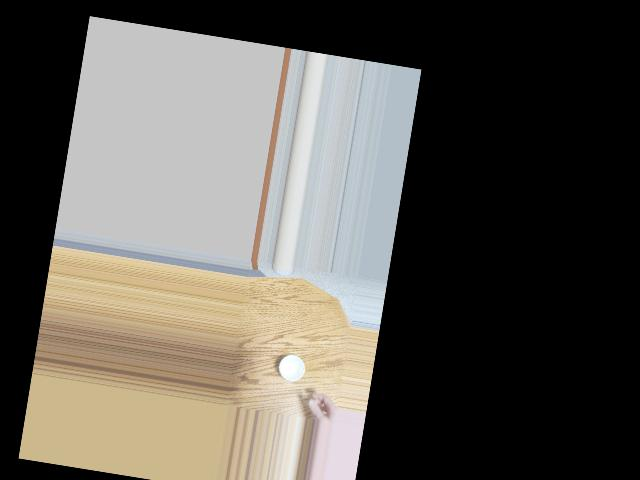cotage: (277, 351, 310, 389)
